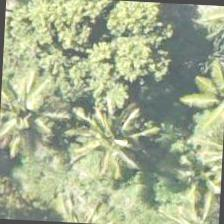Kelapa_Sawit: (68, 99, 162, 194), (0, 59, 66, 153), (170, 58, 223, 152), (43, 174, 136, 223), (157, 180, 221, 223)
